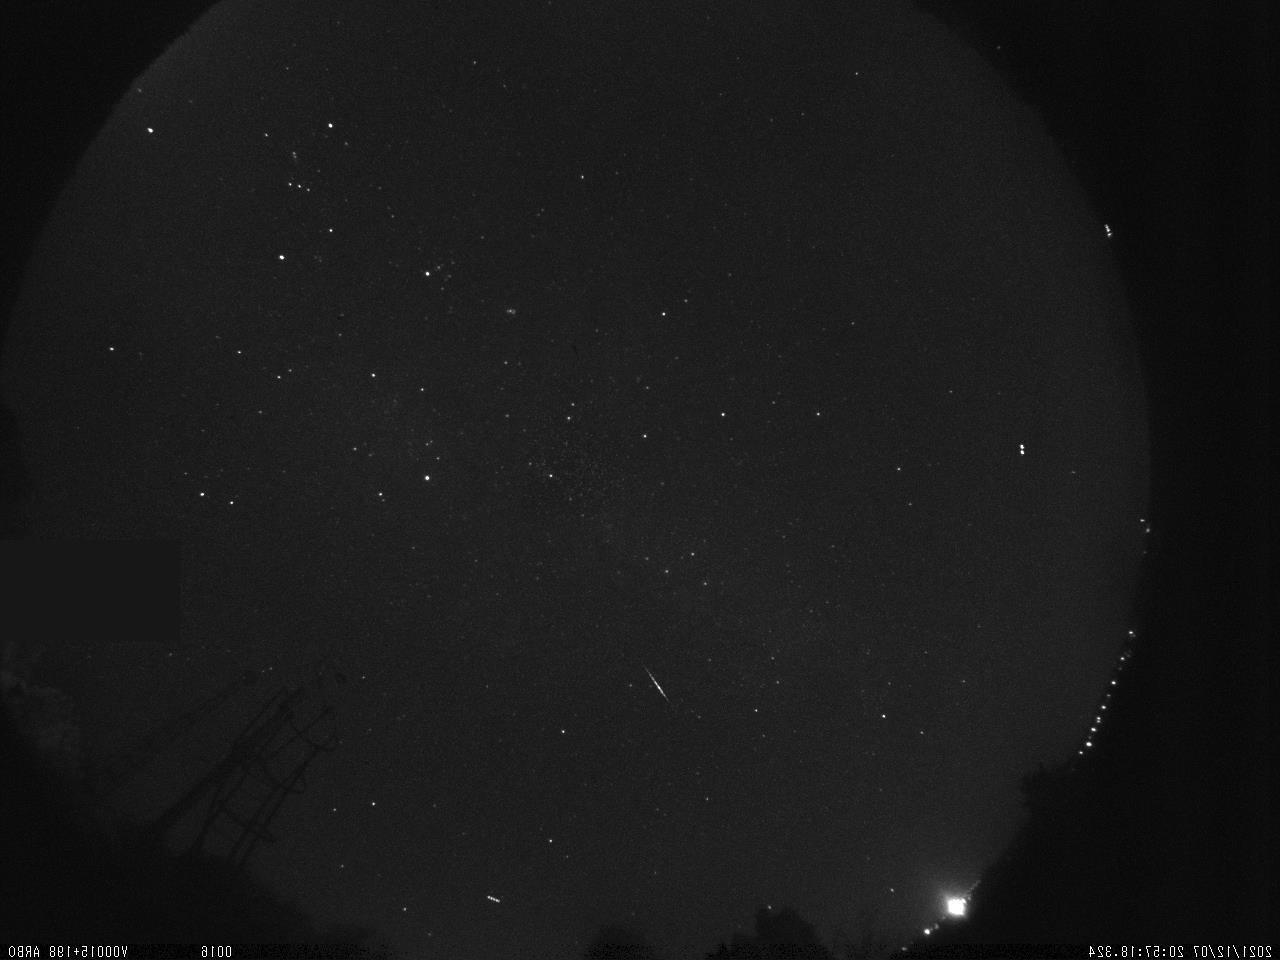meteor: (618, 653, 686, 727)
